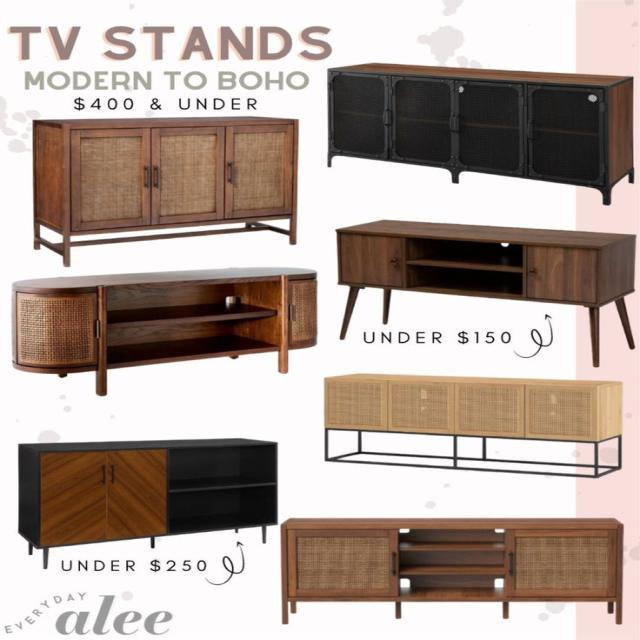obstacle: (334, 219, 636, 367), (326, 62, 634, 205), (31, 116, 299, 266), (10, 267, 318, 396), (280, 517, 623, 624), (18, 438, 278, 568), (323, 372, 622, 478)
